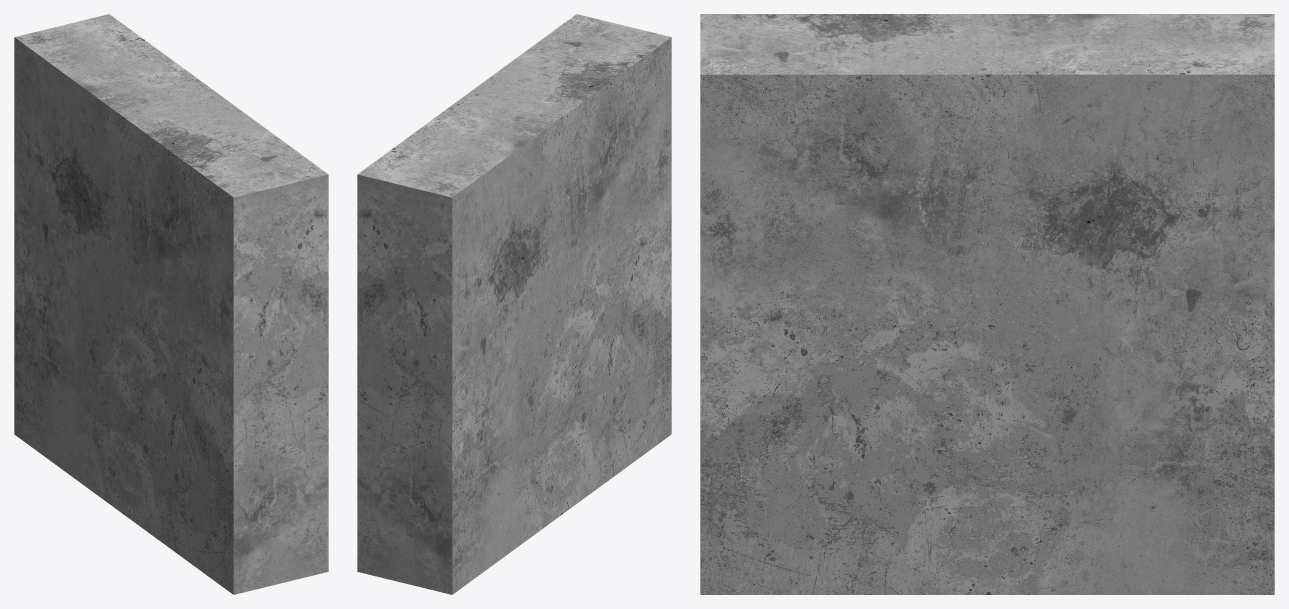
The model's file is SM_Wallkit_01b.fbx.
3 renders of one model, left to right at view 1: azimuth 30°, elevation 25°; view 2: azimuth 150°, elevation 25°; view 3: azimuth 270°, elevation 25°, orthographic. The views are drawn at different scales.
Visible parts, largest first — view 1: SM_Wallkit_01b_LOD0; view 2: SM_Wallkit_01b_LOD0; view 3: SM_Wallkit_01b_LOD0.
Boxes of the visible parts, x1,y1,x2,y2 form: SM_Wallkit_01b_LOD0: [14, 14, 328, 594]; SM_Wallkit_01b_LOD0: [357, 14, 671, 594]; SM_Wallkit_01b_LOD0: [700, 14, 1274, 594].
Size of the model in its own units: 100 by 400 by 400.
